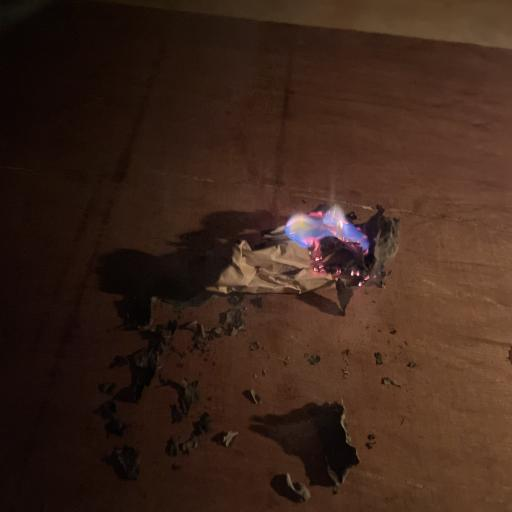fire: (283, 196, 401, 315)
